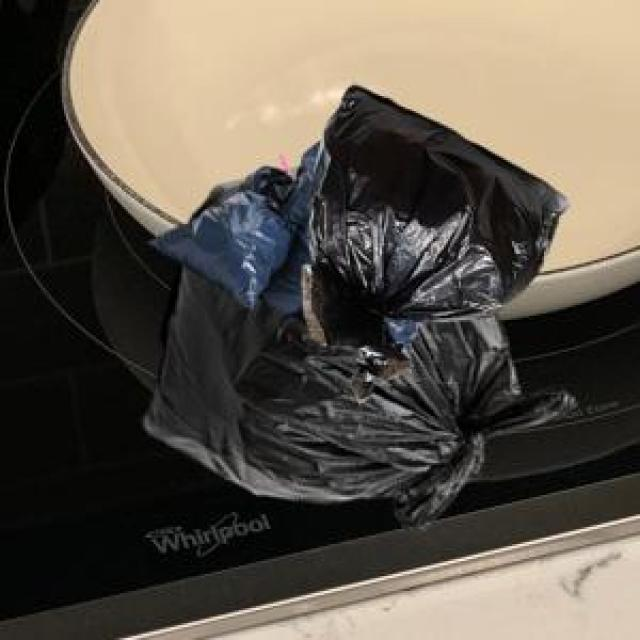waste: (144, 86, 575, 524)
